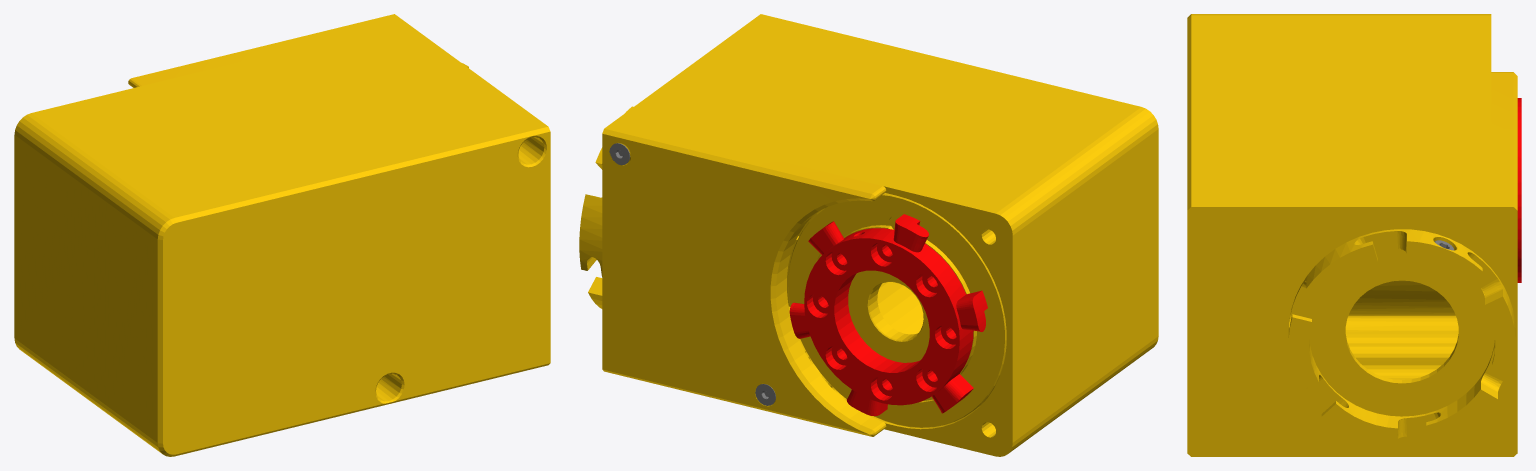
Rendered from actuator 2021-02-25.obj.
3 renders of one model, left to right at view 1: azimuth 30°, elevation 25°; view 2: azimuth 150°, elevation 25°; view 3: azimuth 270°, elevation 25°, orthographic. The views are drawn at different scales.
Visible parts, largest first — view 1: Actuator_2021-02-24-02; view 2: Actuator_2021-02-24-02; view 3: Actuator_2021-02-24-02.
Boxes of the visible parts, x1=… form: Actuator_2021-02-24-02: x1=14, y1=14, x2=550, y2=456; Actuator_2021-02-24-02: x1=579, y1=14, x2=1158, y2=456; Actuator_2021-02-24-02: x1=1187, y1=14, x2=1521, y2=456.
Size of the model in its own units: 12.36 by 6.8 by 8.25.
Materials: 1 (1 with a texture image).
